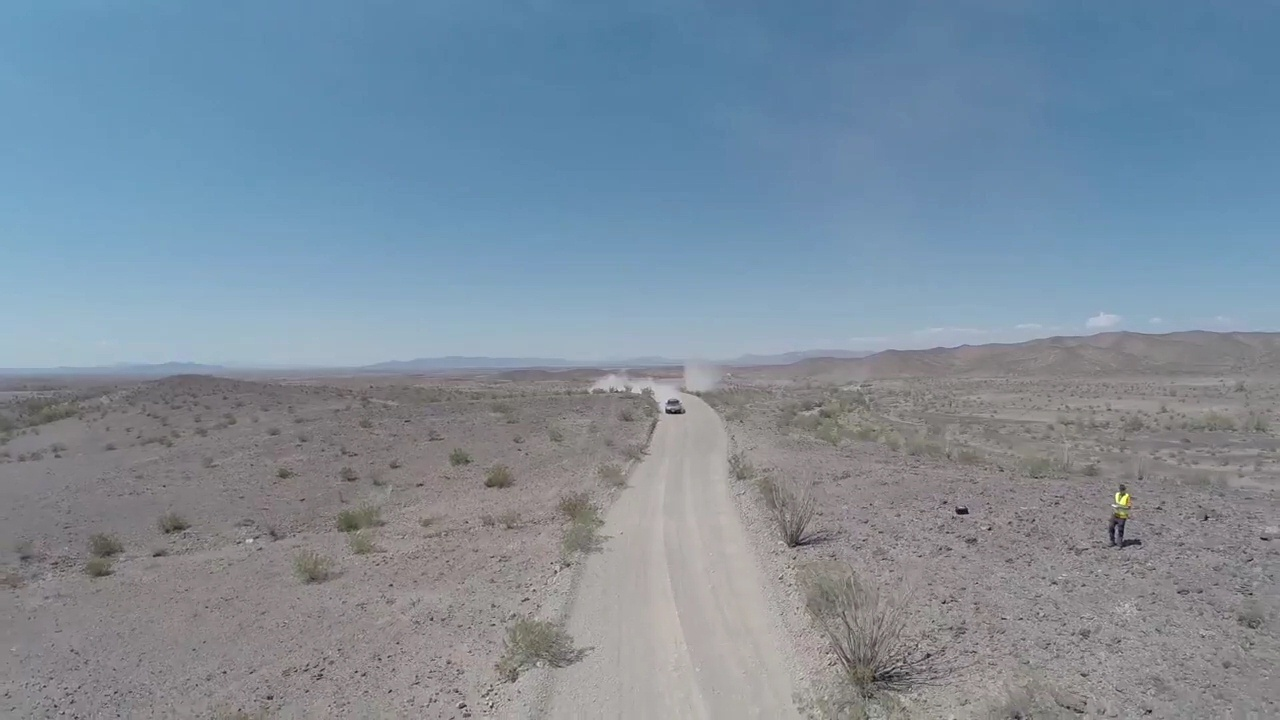araba: (665, 396, 683, 417)
insan: (1106, 483, 1132, 547)
